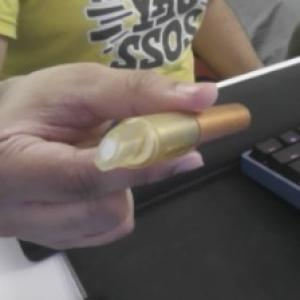Golden-E-Ciggirate: (96, 101, 252, 176)
